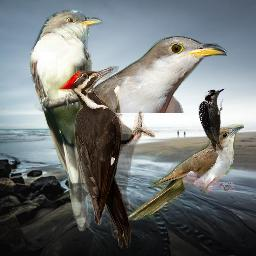Cuckoo: (30, 9, 103, 233), (122, 124, 244, 221), (82, 36, 227, 113)
Woodpecker: (58, 66, 155, 249), (196, 85, 227, 154)
